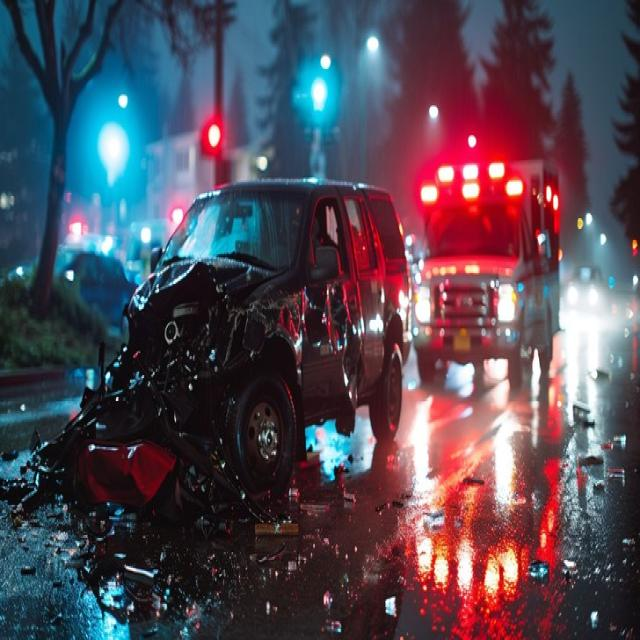Accident: (19, 176, 412, 600)
